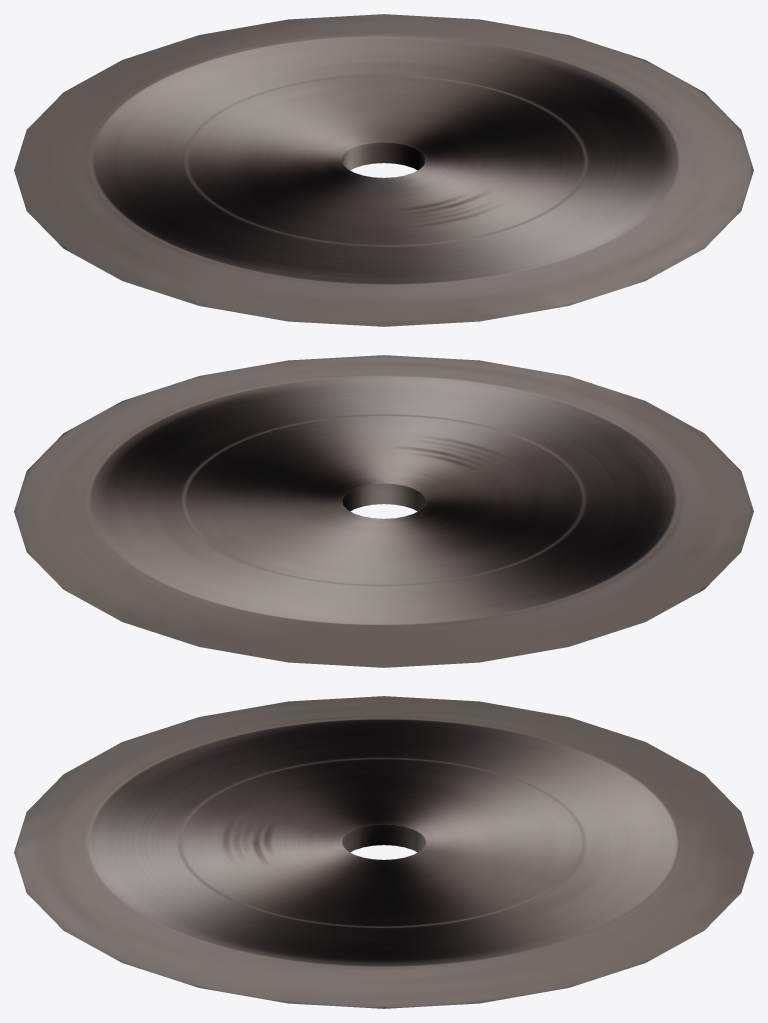
Rendered from sawblade_on.fbx.
3 renders of one model, top to bottom at view 1: azimuth 30°, elevation 25°; view 2: azimuth 150°, elevation 25°; view 3: azimuth 270°, elevation 25°, orthographic.
Visible parts, largest first — view 1: Blade_Spinning; view 2: Blade_Spinning; view 3: Blade_Spinning.
Boxes of the visible parts, x1=… form: Blade_Spinning: x1=14, y1=14, x2=753, y2=326; Blade_Spinning: x1=14, y1=355, x2=753, y2=667; Blade_Spinning: x1=14, y1=696, x2=753, y2=1008.
Bounding box in the file's own units: 2 × 0.0611 × 2.
Materials: 1 (1 with a texture image).
